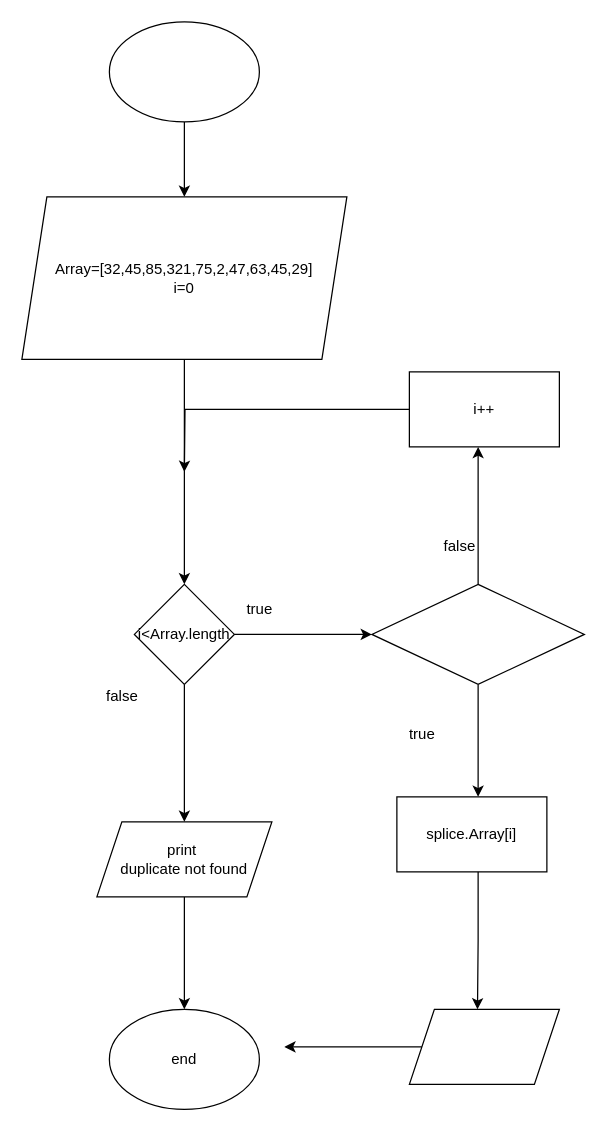
Some shapes in this 606 by 1131 pixel diagram are drawn without their labels. The centre of each missing label's shape, as x and y in pixels:
Array[i]=Array[i]: pixel 477 633
print Array[i] deleted: pixel 483 1046
start: pixel 183 71
